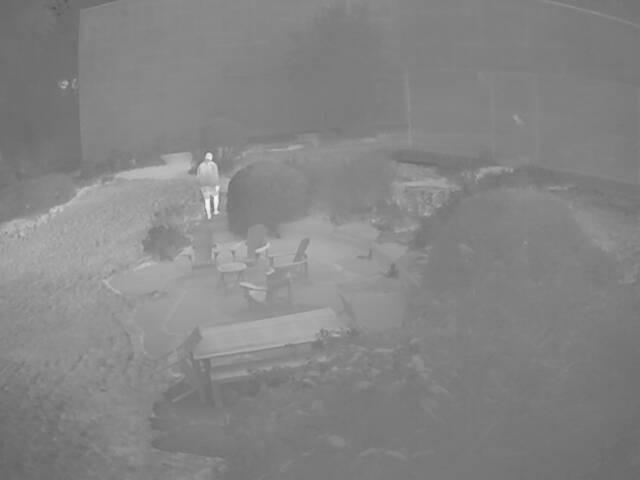person: (197, 152, 220, 219)
